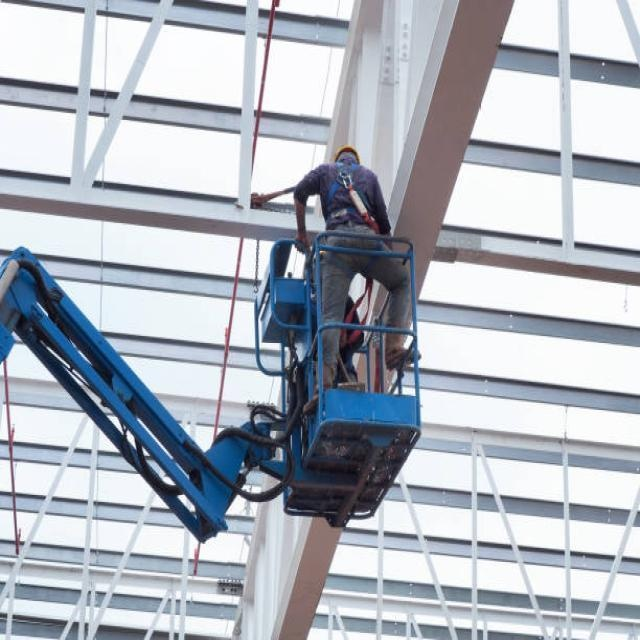Arnes_seguridad: (322, 163, 376, 273)
